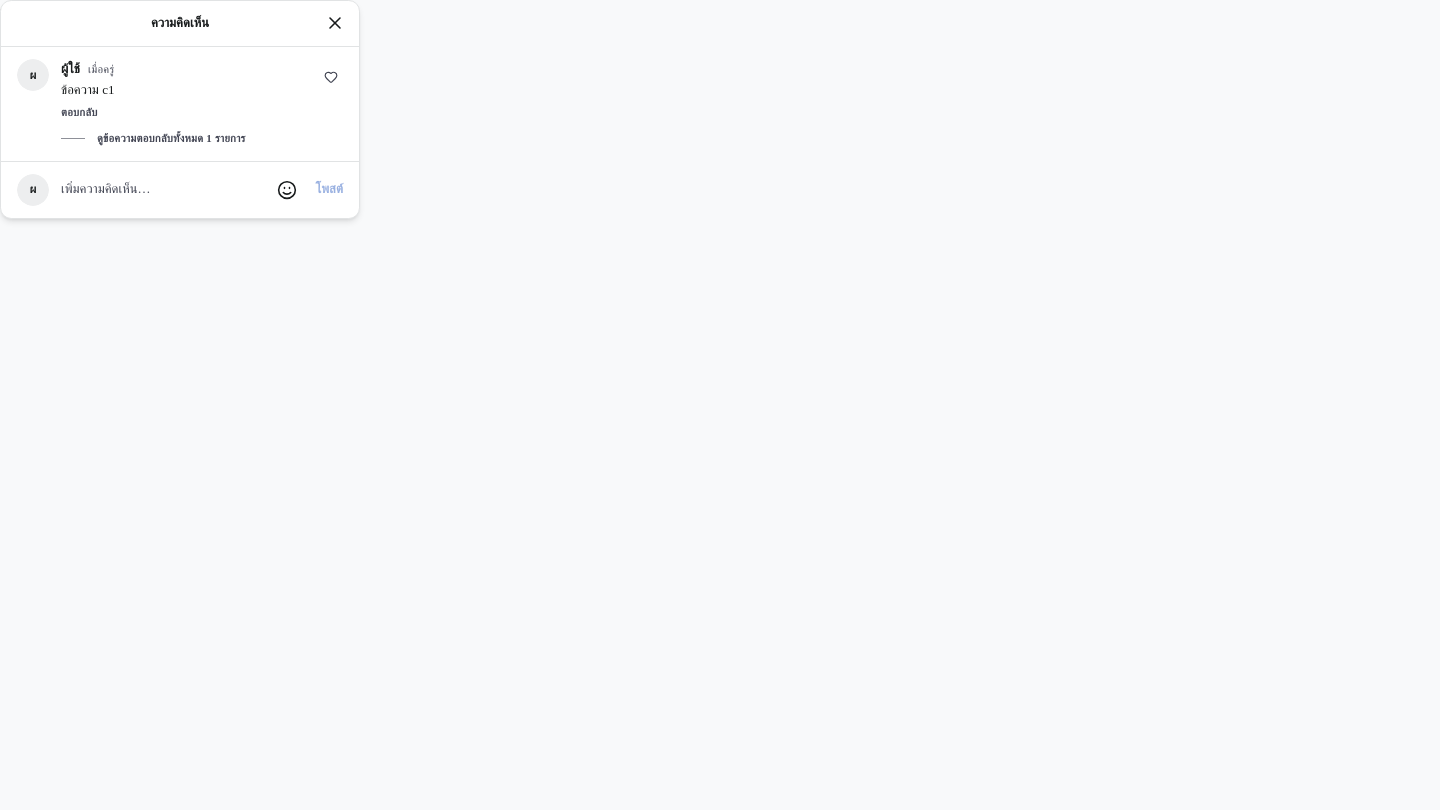
Test case: แผงความคิดเห็น › **ตอบคำตอบ → ผูกกับต้นเรื่อง (parentId ระดับบนสุด) + เติม @ชื่อ** แถบ "กำลังตอบกลับ" ขึ้น
The image size is (1440, 810).
Click the button "ดูข้อความตอบกลับทั้งหมด 1 รายการ" at [153, 139], box [61, 130, 246, 148]
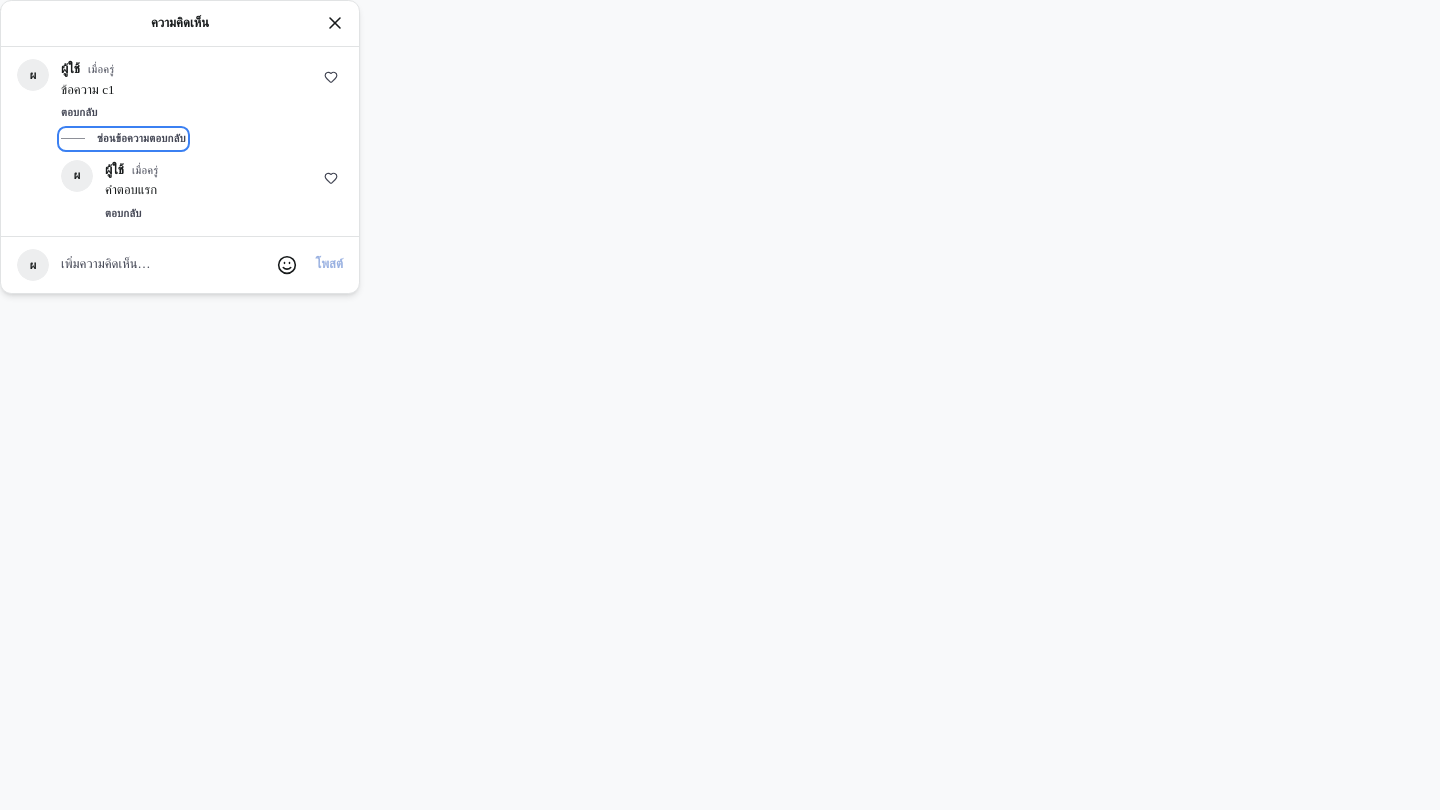
Expected: the text "คำตอบแรก" is shown, [105, 182, 157, 197]
Click the button "ตอบกลับ" below "คำตอบแรก" at [123, 214], box [105, 205, 142, 223]
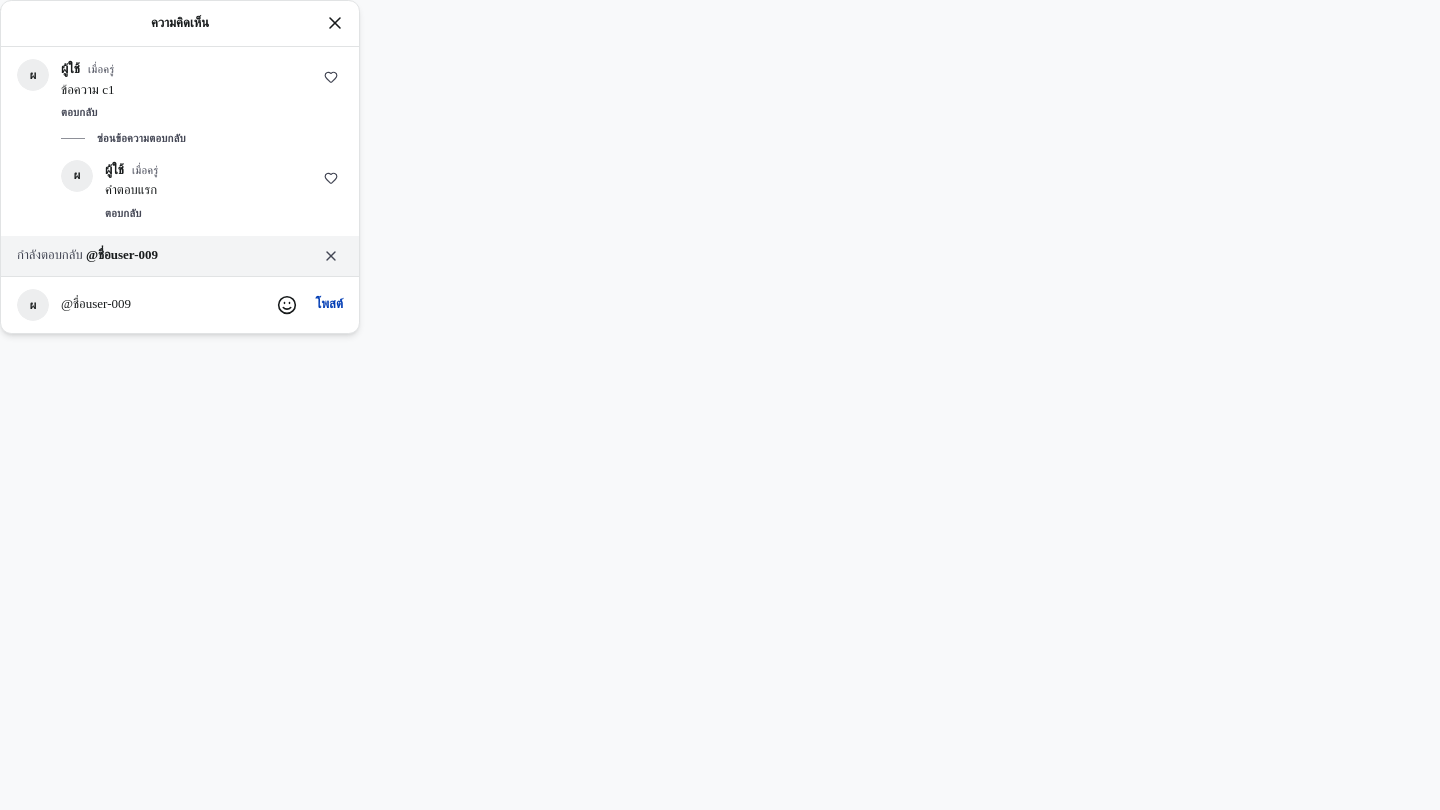
Expected: the field named "เพิ่มความคิดเห็น" holds "@ชื่อuser-009 "
Expected: the text "กำลังตอบกลับ @ชื่อuser-009" is shown, [17, 245, 158, 266]
Type "เห็นด้วย" into the field named "เพิ่มความคิดเห็น" at [160, 305], box [61, 294, 260, 315]
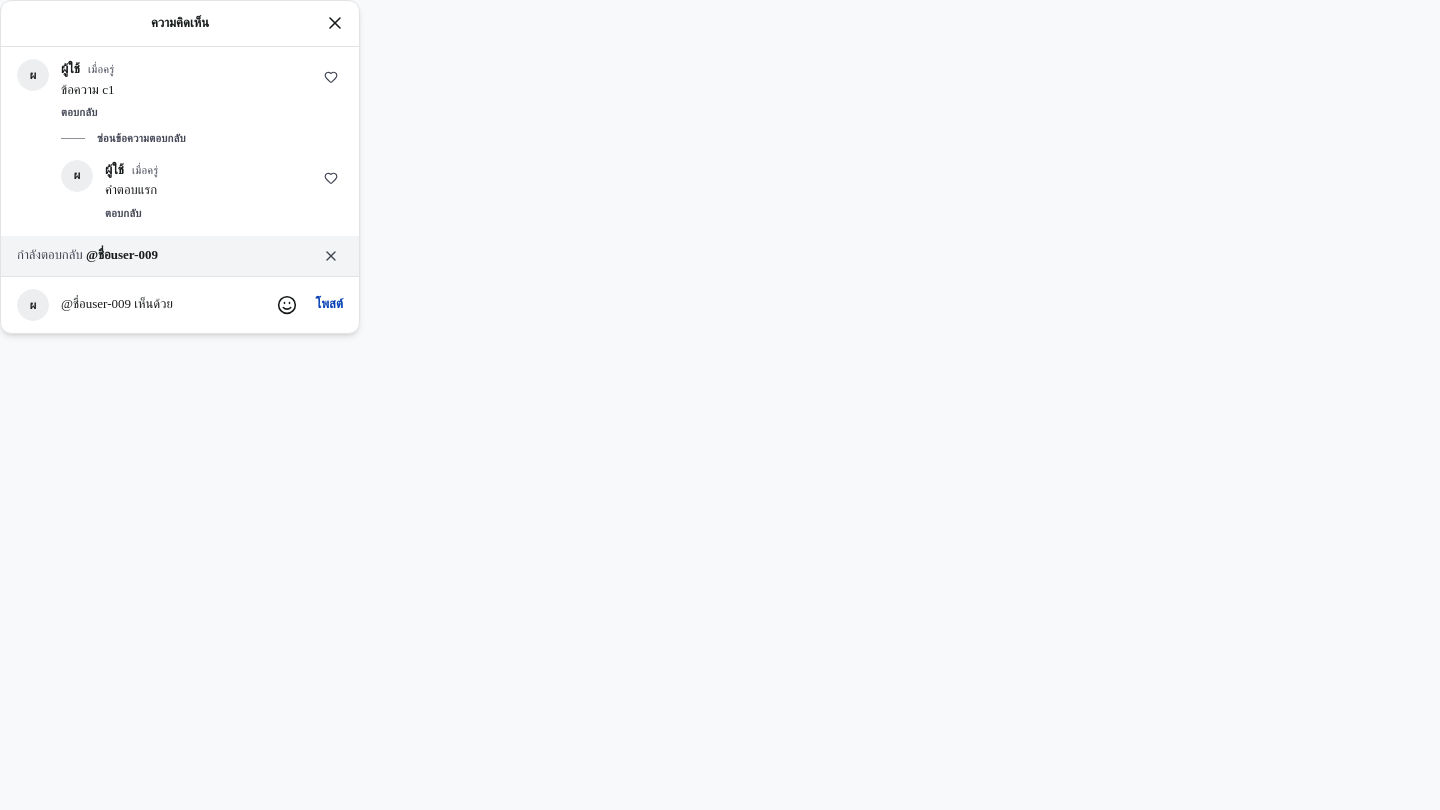
Click the button "โพสต์" at [329, 305], box [316, 294, 343, 315]
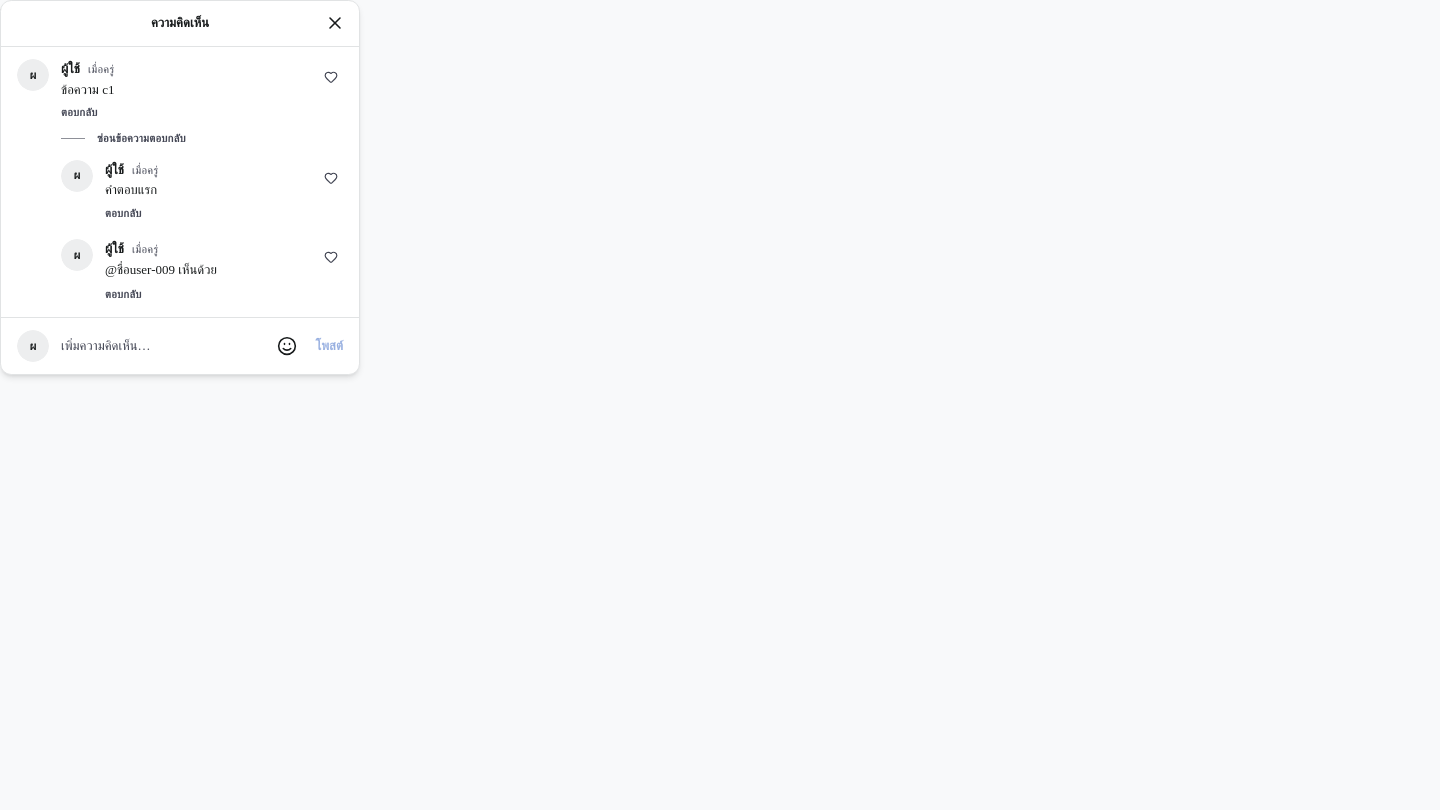
Expected: the text "@ชื่อuser-009 เห็นด้วย" is shown, [105, 262, 217, 277]
Expected: the text "กำลังตอบกลับ" is gone
